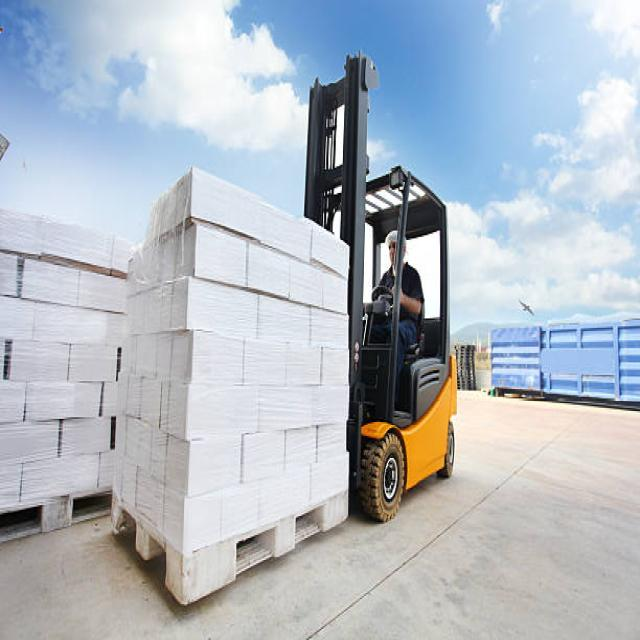Wooden-Pallets: (100, 475, 352, 615), (0, 475, 114, 558)
